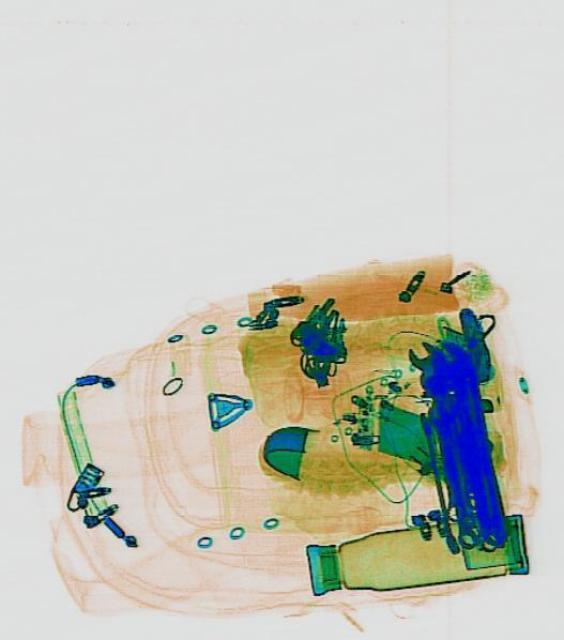Pliers: (403, 336, 482, 550)
